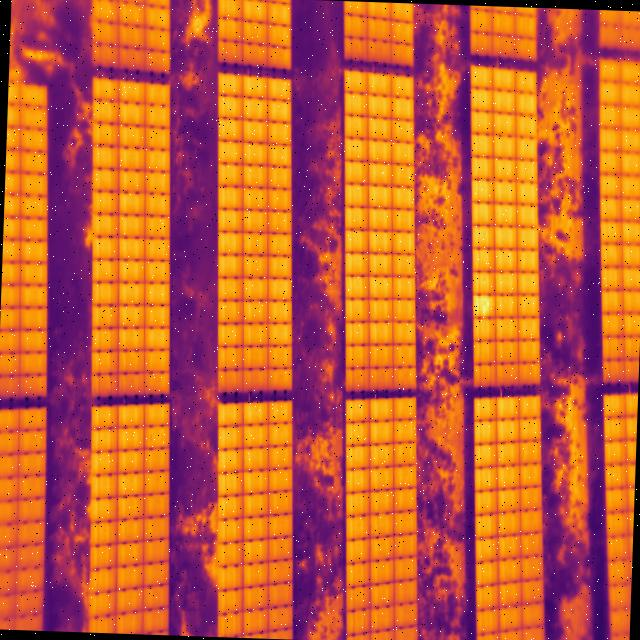Hotspot: (472, 294, 494, 316)
